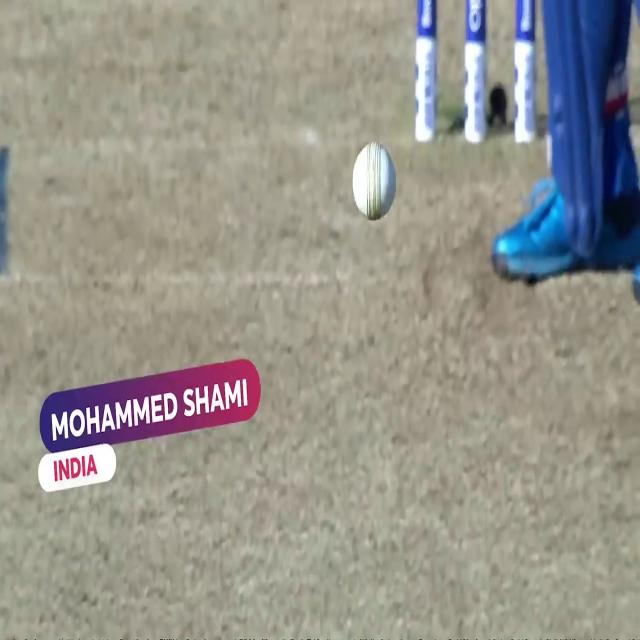ball: (348, 132, 399, 224)
